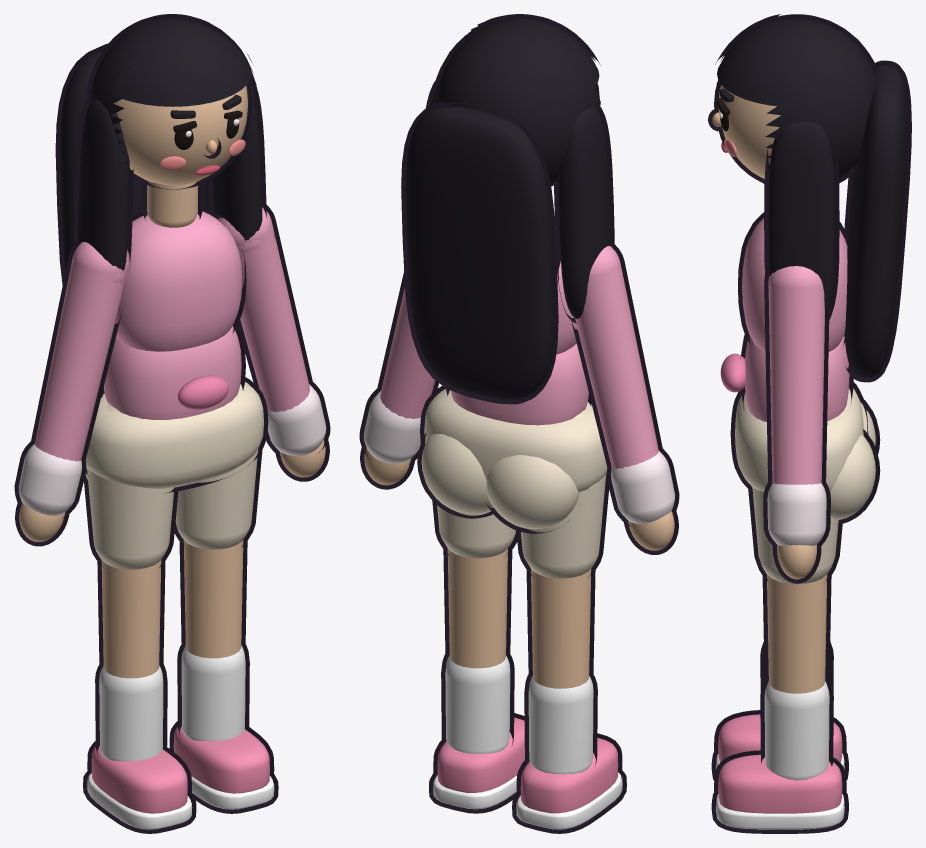
File: girl_toon.glb
The picture shows the model from 3 angles, left to right: view 1: azimuth 30°, elevation 25°; view 2: azimuth 150°, elevation 25°; view 3: azimuth 270°, elevation 25°; orthographic projection.
Parts seen in each view (by area): view 1: head, torso, leg_R, leg_L, arm_R, arm_L; view 2: head, leg_R, torso, leg_L, arm_R, arm_L; view 3: head, leg_L, arm_L, torso, leg_R.
Part boxes in pixels (x1,y1,x2,y2): head: (55,14,266,308); torso: (85,206,268,493); leg_R: (83,404,196,833); leg_L: (169,380,278,813); arm_R: (14,240,128,546); arm_L: (214,204,330,481); head: (401,14,614,404); leg_R: (512,410,626,833); torso: (417,219,607,533); leg_L: (429,387,524,813); arm_R: (571,241,679,554); arm_L: (359,271,438,489); head: (708,14,911,382); leg_L: (711,482,848,833); arm_L: (763,266,830,583); torso: (720,212,880,524); leg_R: (711,641,848,780).
Size of the model in its own units: 0.6712 by 1.6 by 0.3804.
